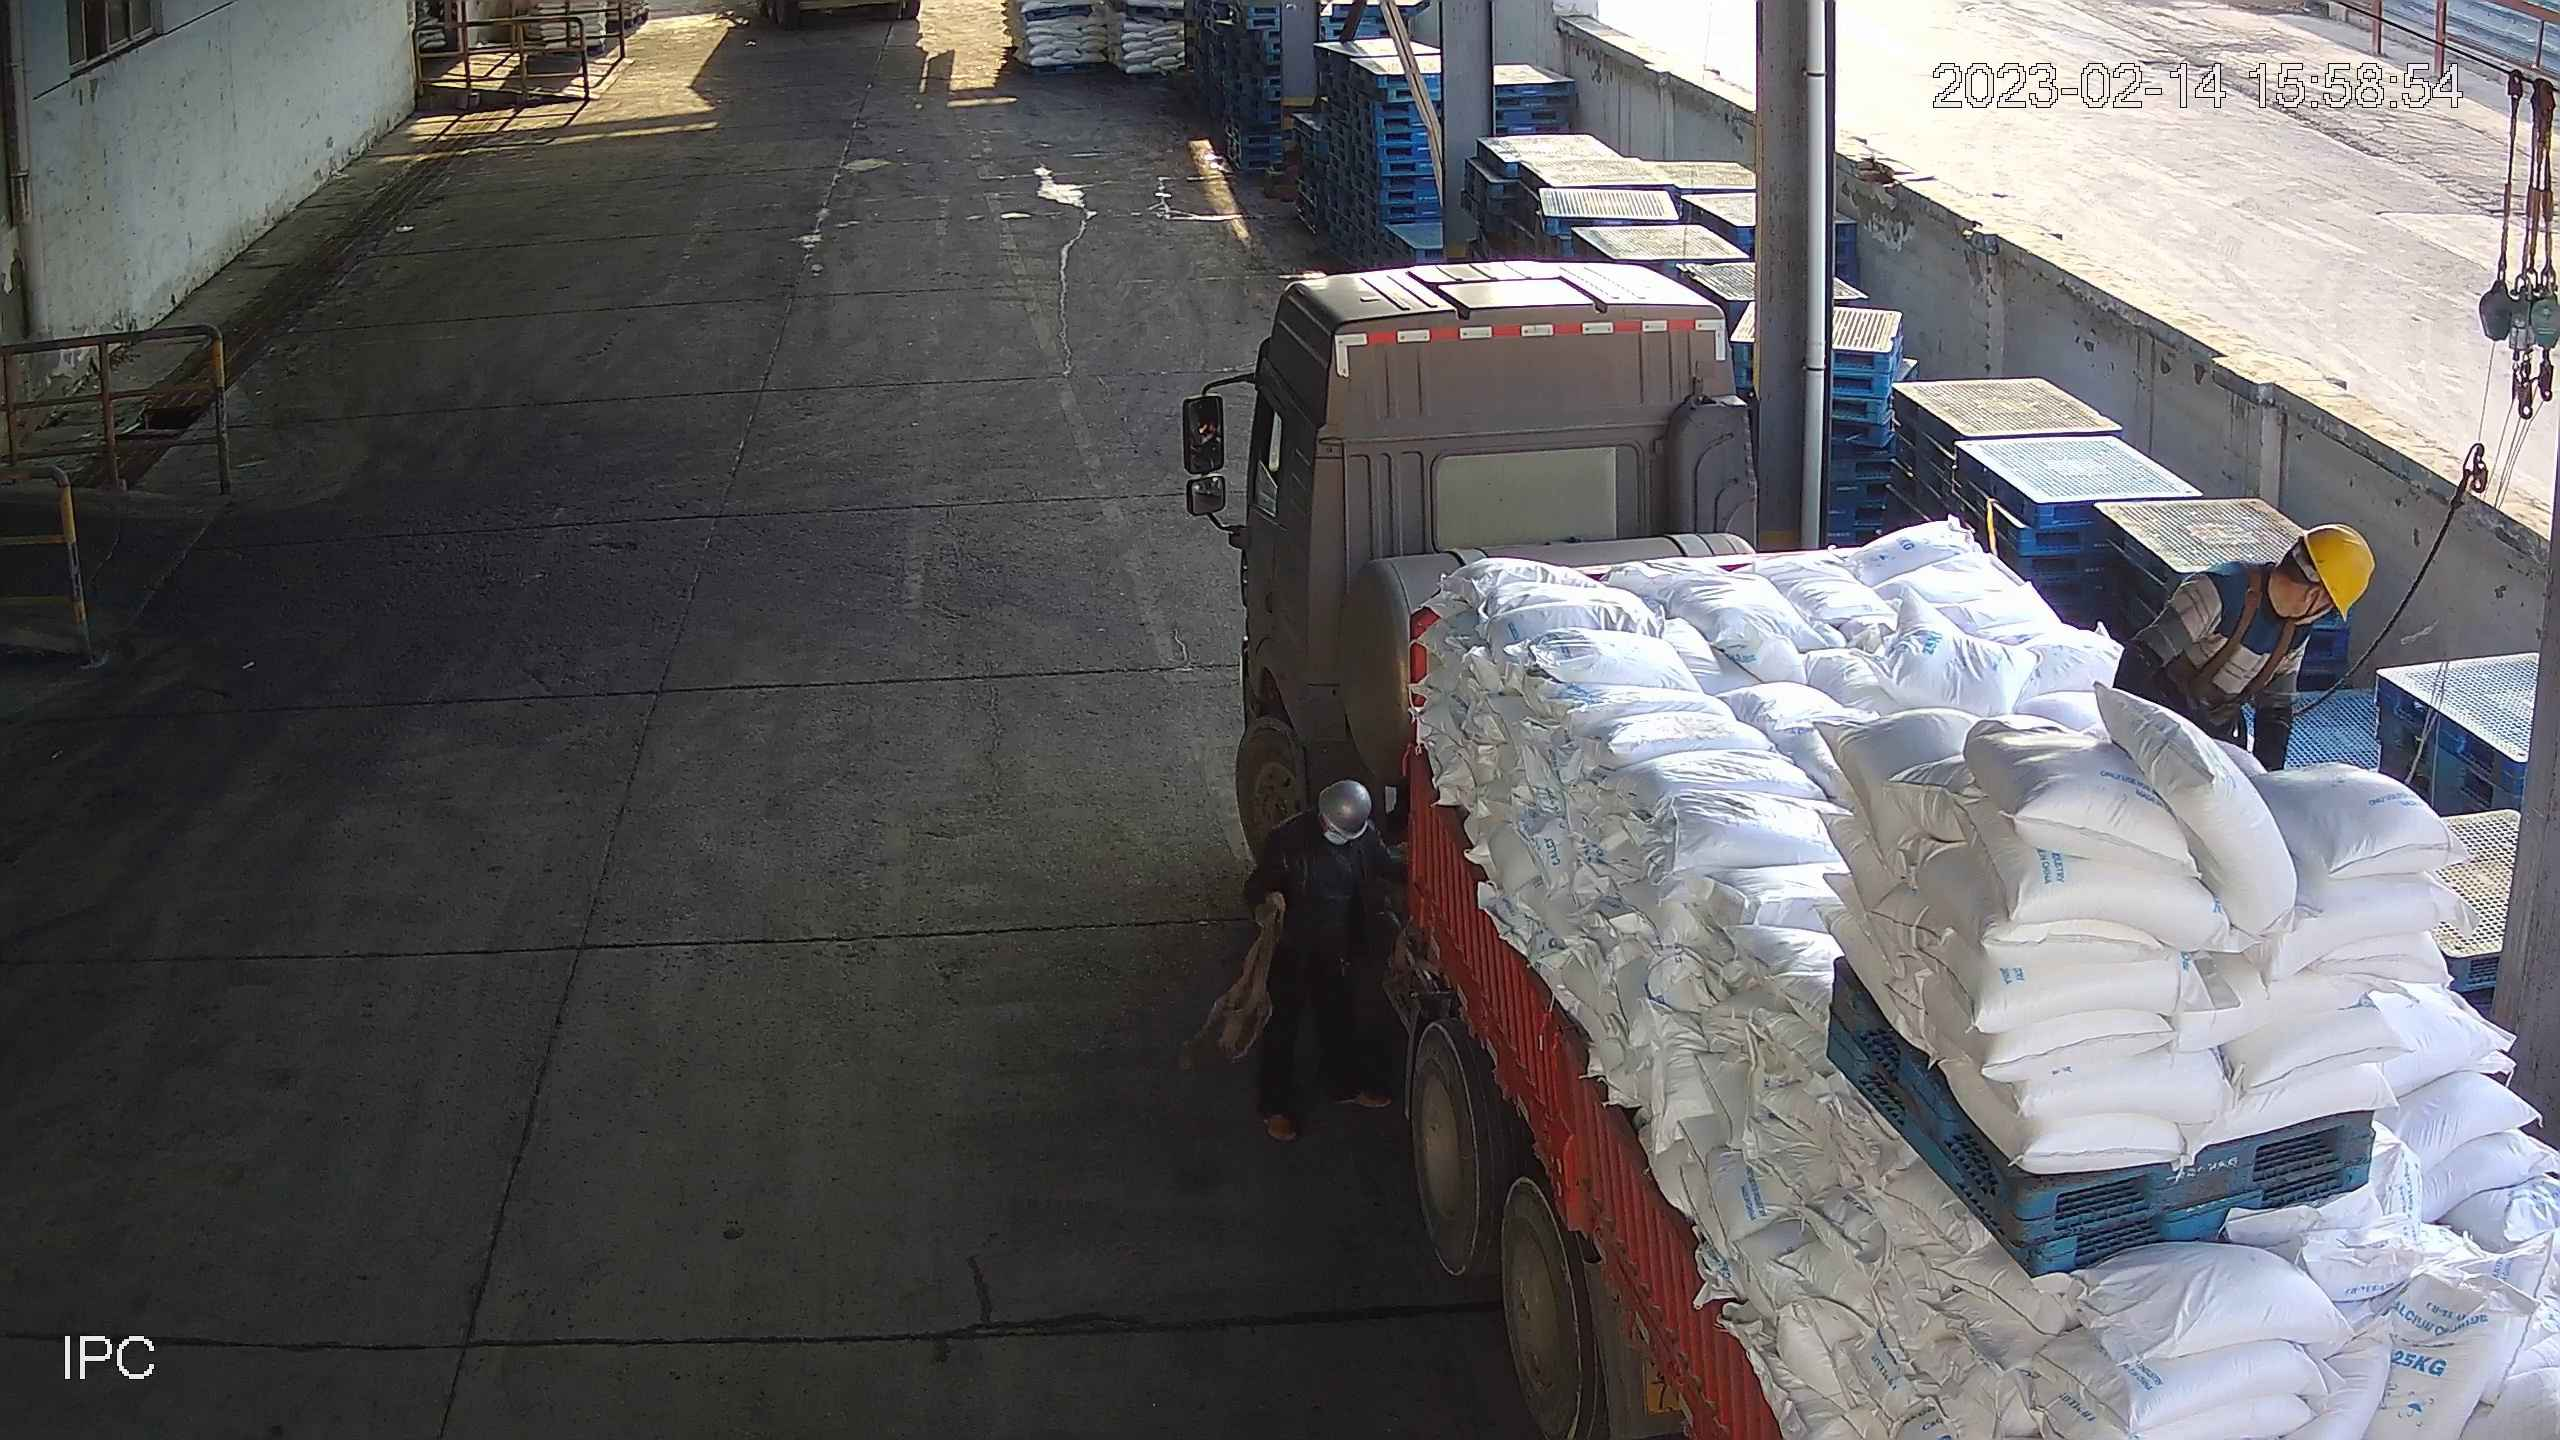belt: (2169, 557, 2308, 742)
head: (2112, 522, 2376, 788), (1239, 779, 1405, 928)
helmet: (2303, 527, 2374, 623), (1322, 786, 1373, 842)
people: (1239, 778, 1408, 1147)
truck: (1183, 261, 2560, 1440)
